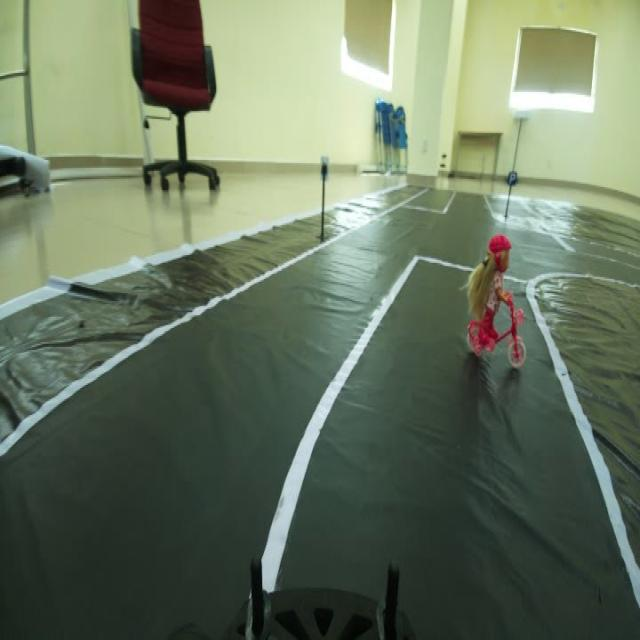pedestrian: (471, 230, 525, 372)
